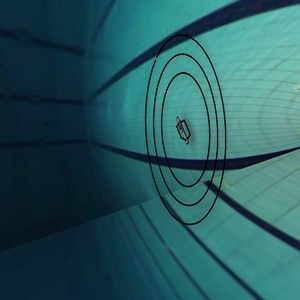circle: (135, 28, 241, 231)
submarine: (170, 110, 197, 157)
